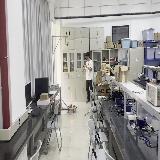fire: (69, 89, 74, 107)
